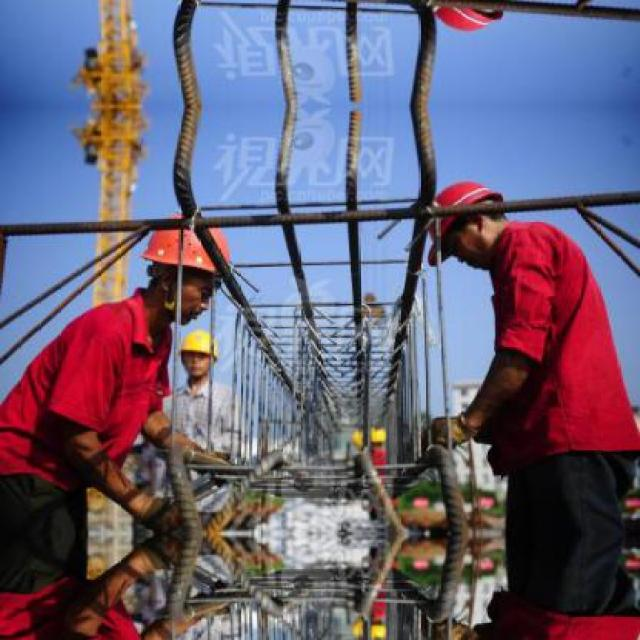helmet: (141, 220, 219, 318), (424, 176, 514, 254), (423, 0, 515, 37), (179, 323, 215, 376)
